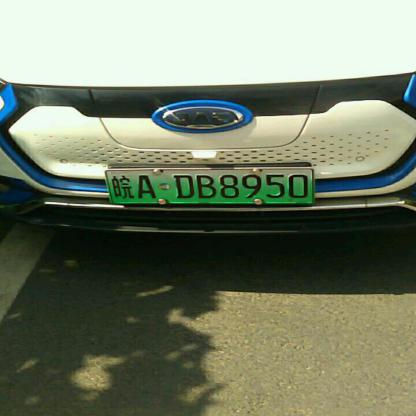lp: (106, 168, 314, 204)
